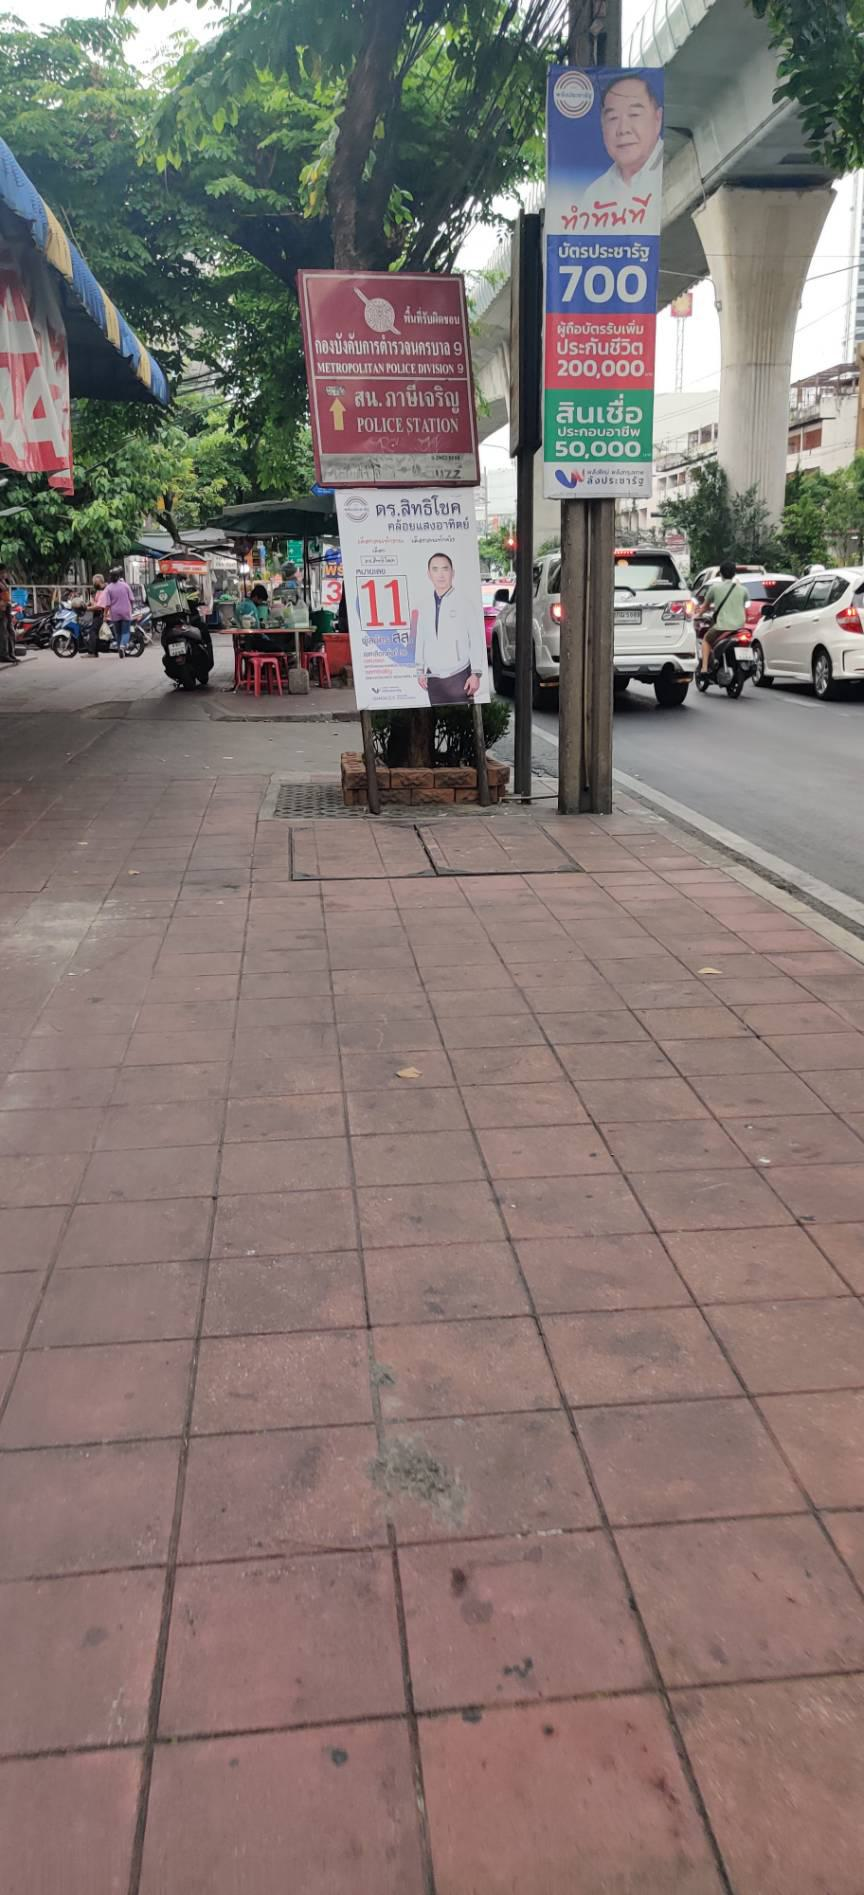Banner: (547, 60, 660, 497), (334, 487, 486, 705)
